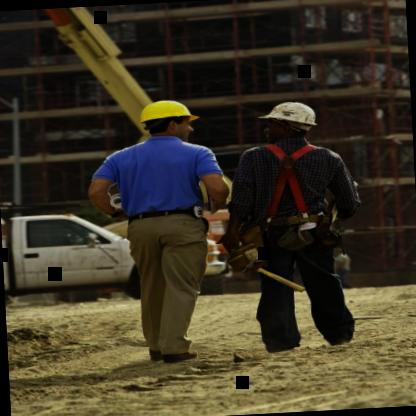helmet: (252, 92, 330, 144), (132, 94, 204, 143)
